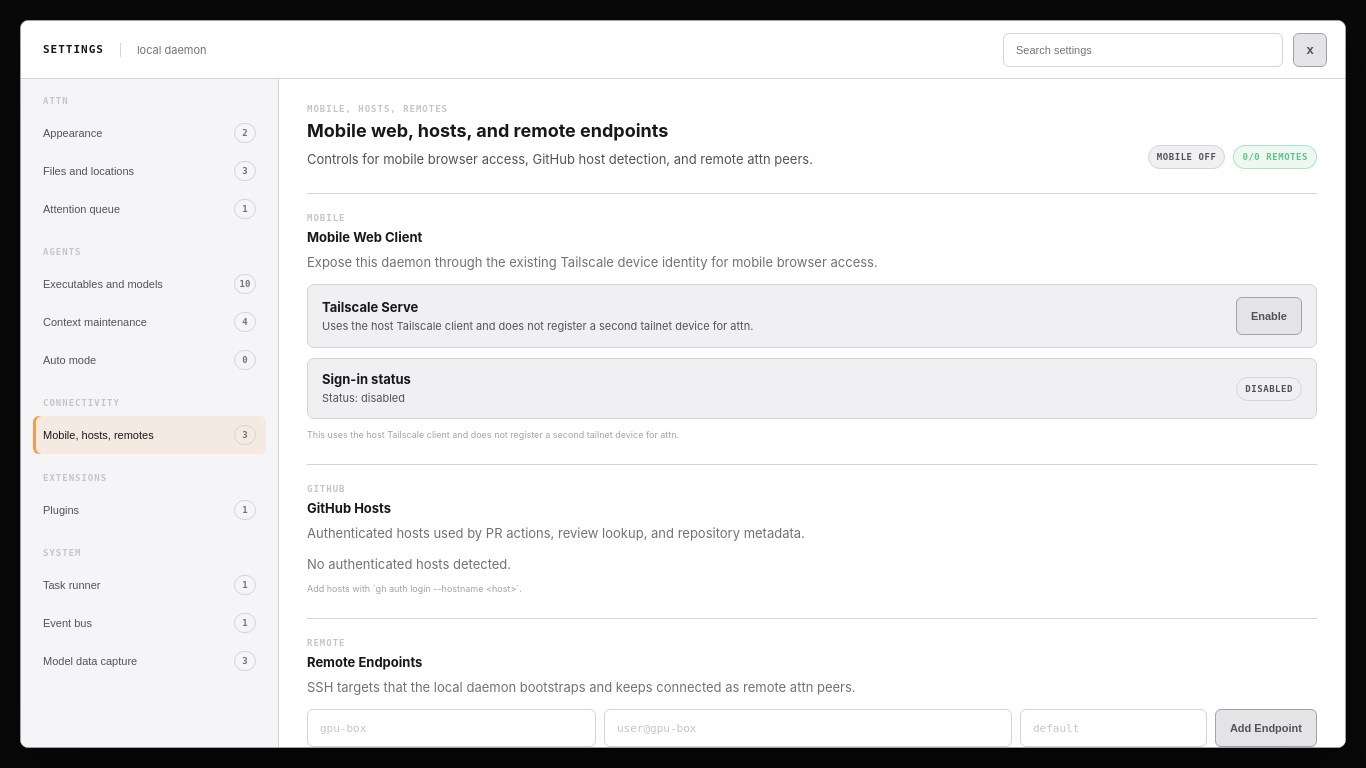
Test: SettingsModal › updates provider priority for an installed plugin
This screenshot has width=1366, height=768.
Click the button with test id "settings-nav-plugins" at (150, 510), box [33, 491, 266, 529]
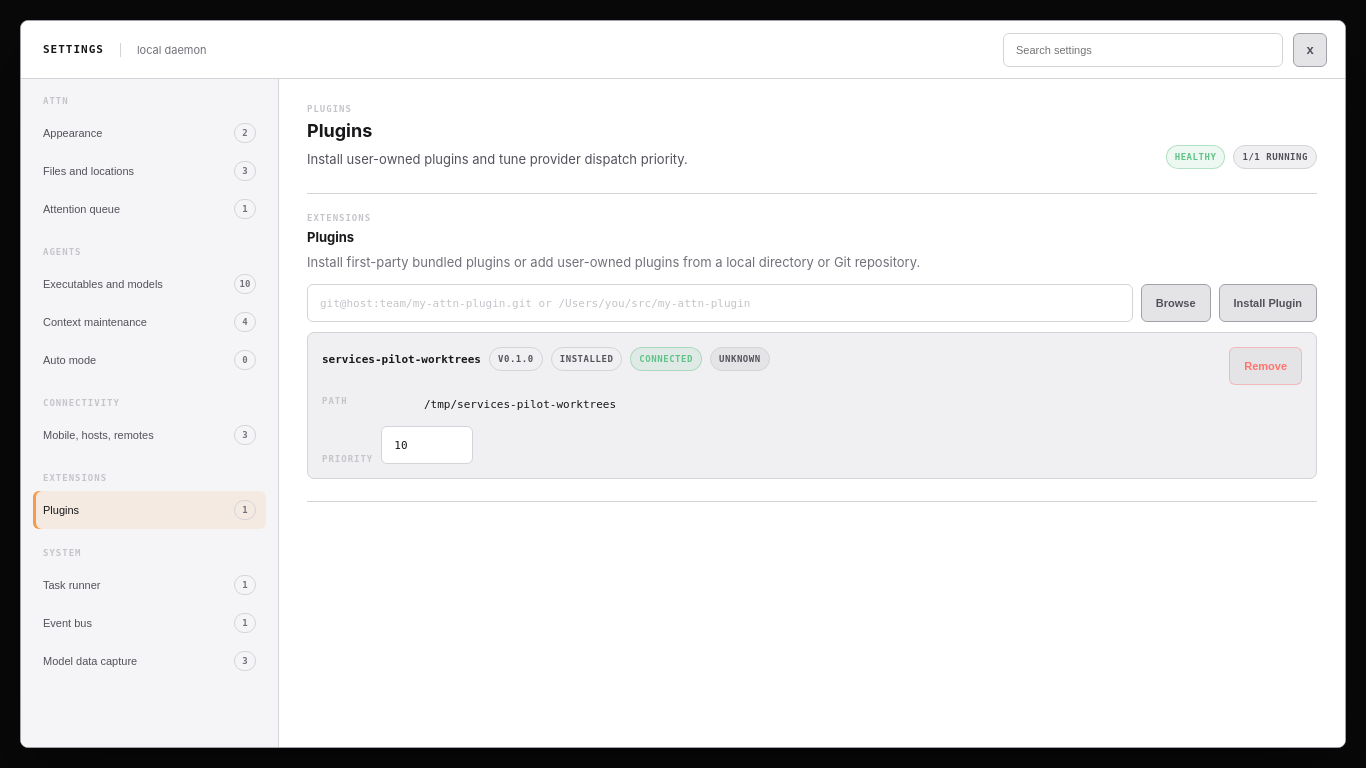
Replace the text in the number field named "services-pilot-worktrees priority" with "25" at (427, 446), box [381, 426, 473, 464]
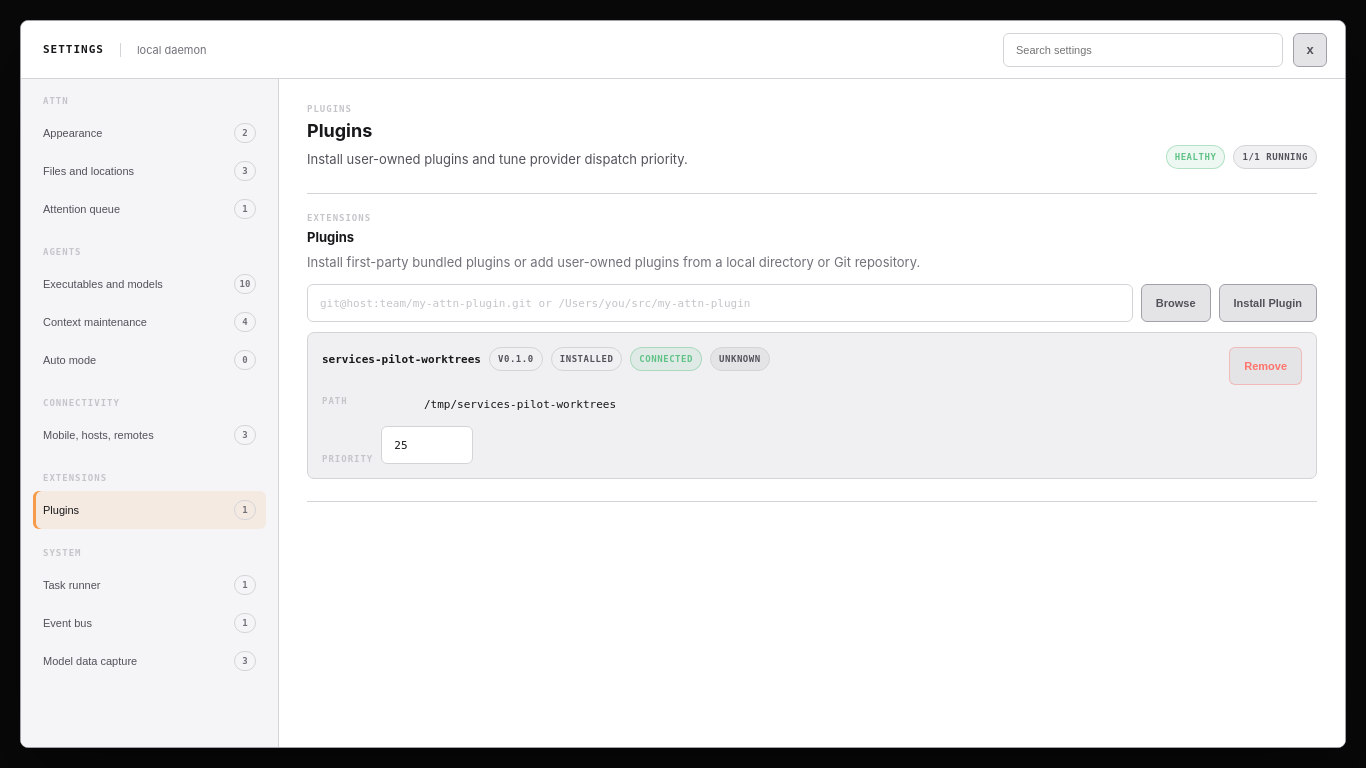
Leave the number field named "services-pilot-worktrees priority", box [381, 426, 473, 464]
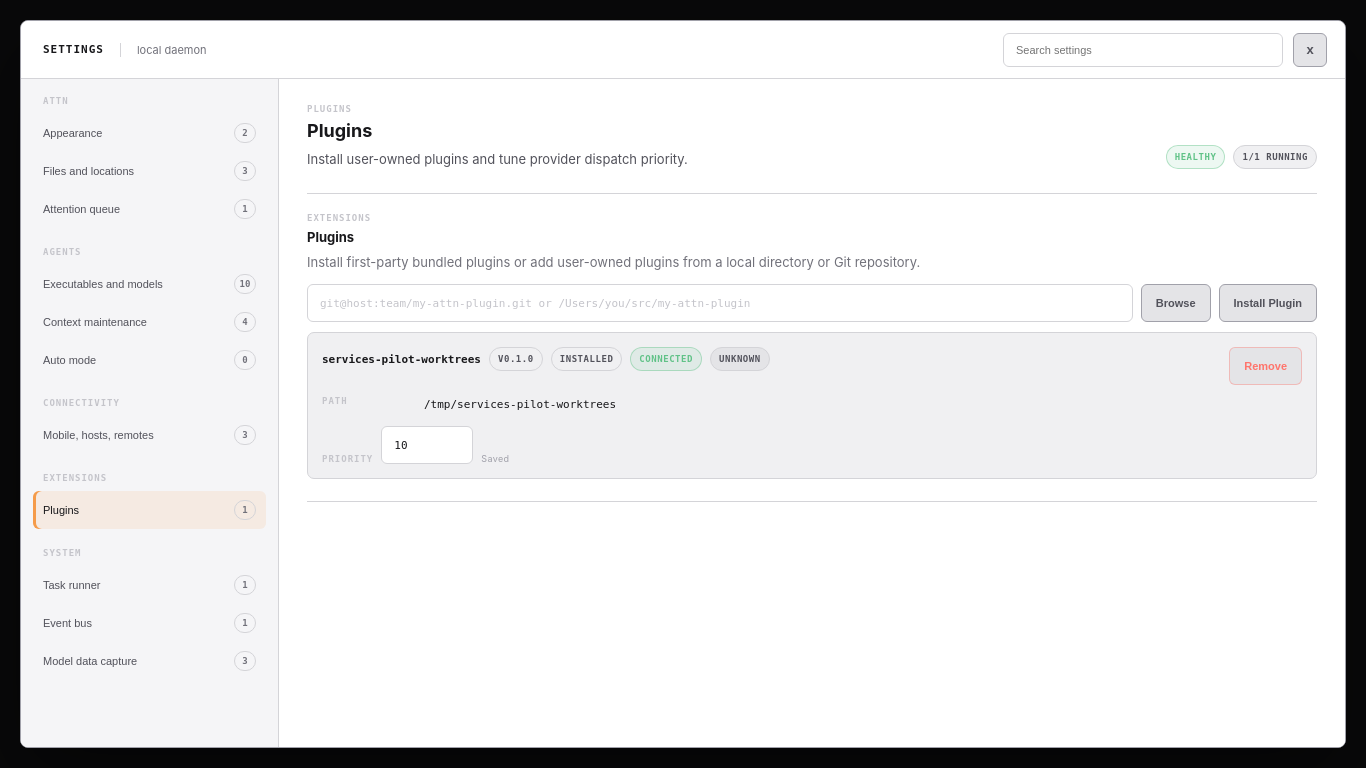
Expected: the message "Saved" is shown, [481, 454, 509, 464]
